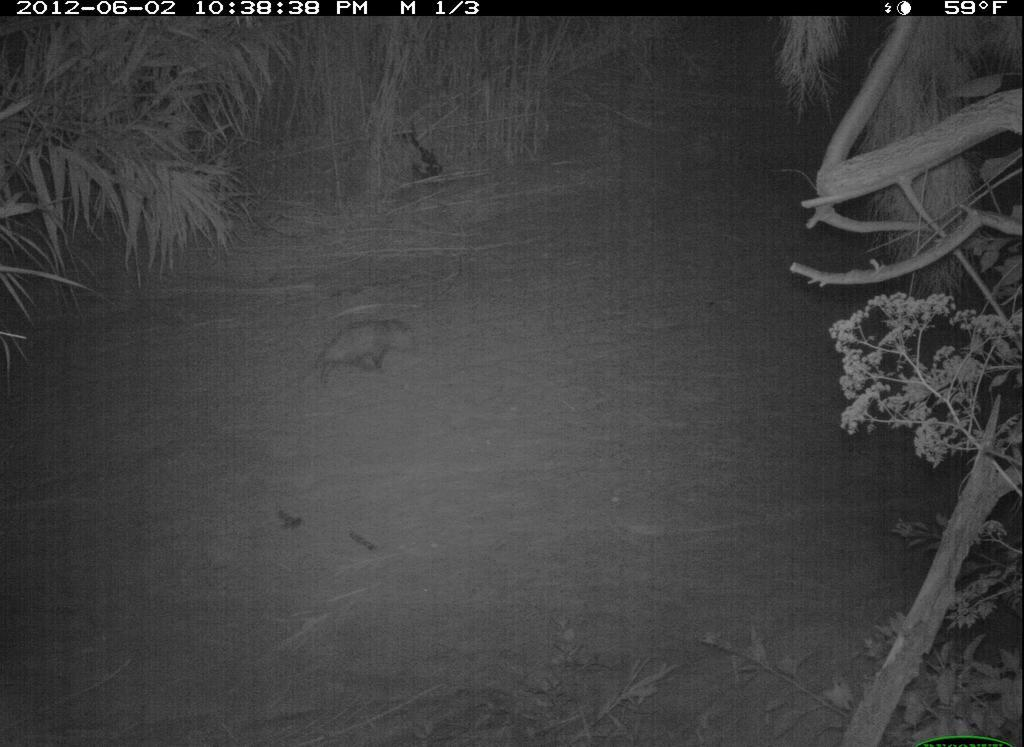opossum: (294, 309, 442, 400)
